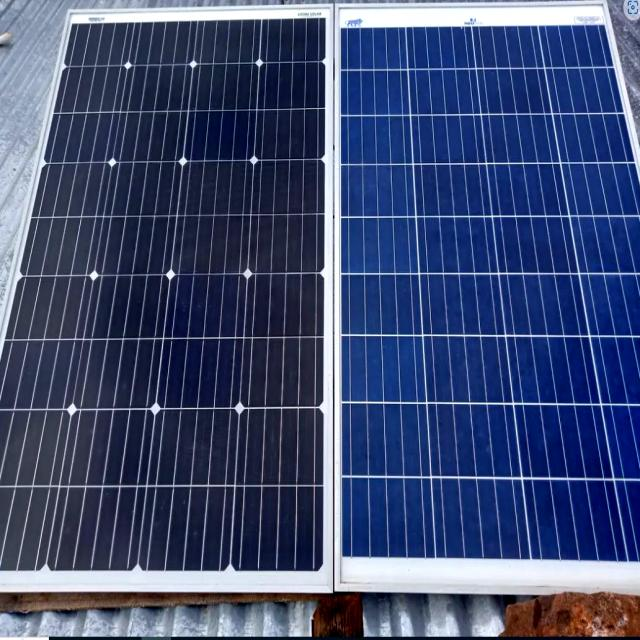crack: (0, 0, 375, 640), (330, 14, 640, 640)
